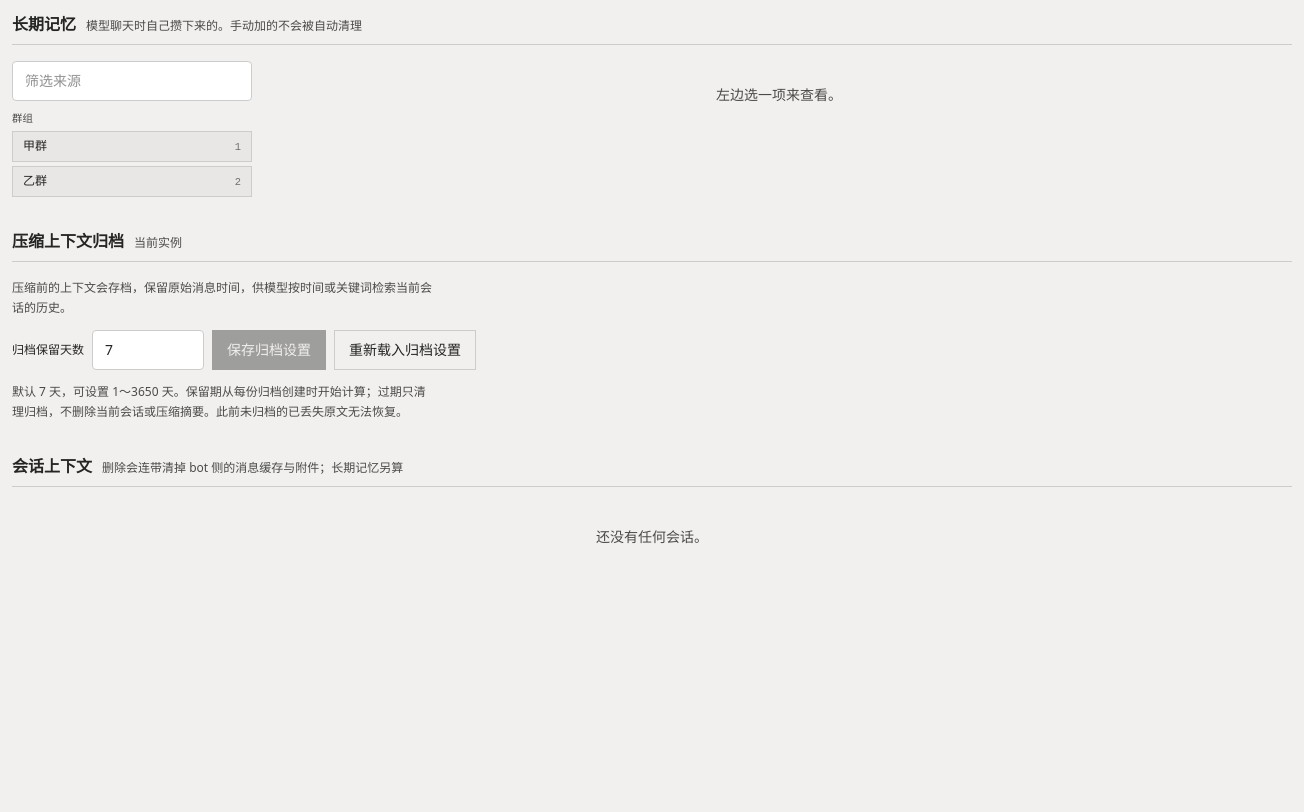
Test: 记忆页的那一句提示 › 条目那一路读失败，换一份读成功就不再报那句
Click the button "甲群 1" at (132, 147), box [12,131,252,162]
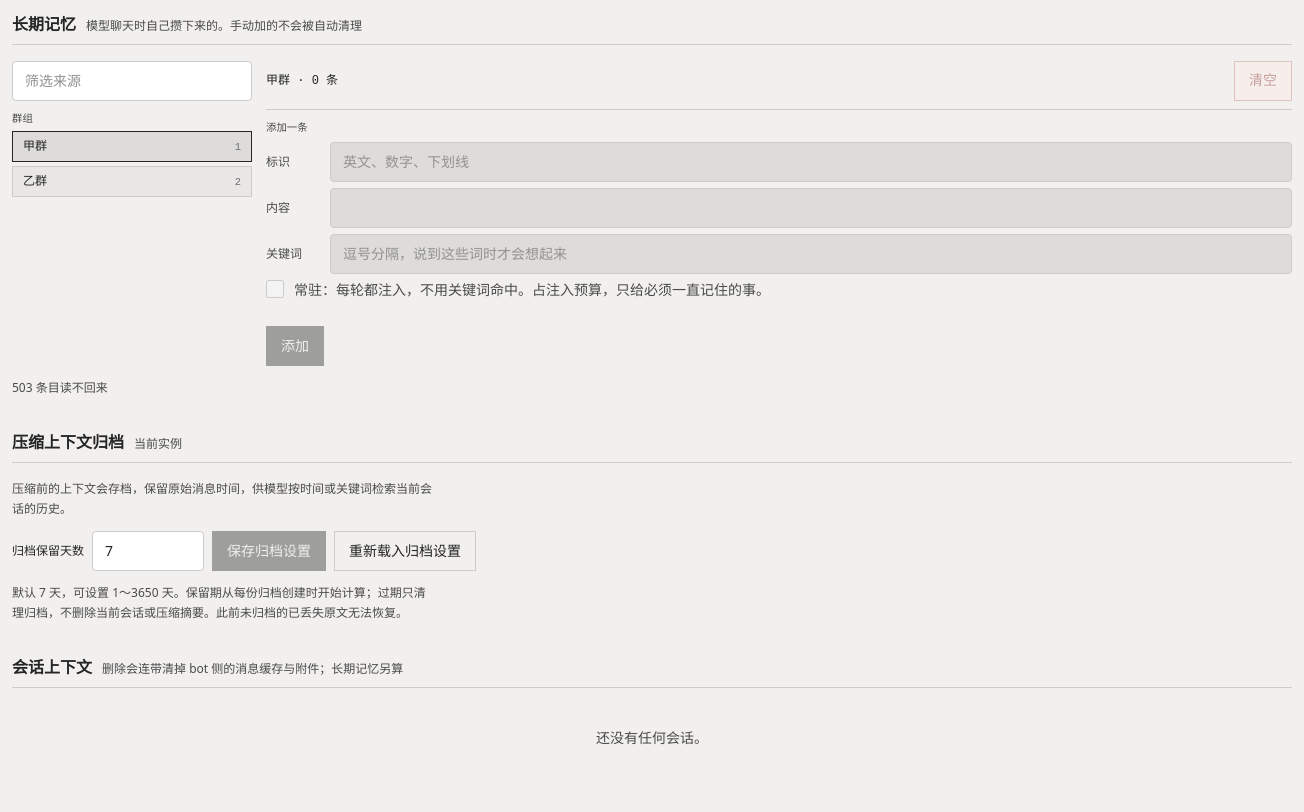
Result: the text "503 条目读不回来" is shown at [12,379,108,396]
Click the button "乙群 2" at (132, 181), box [12,166,252,197]
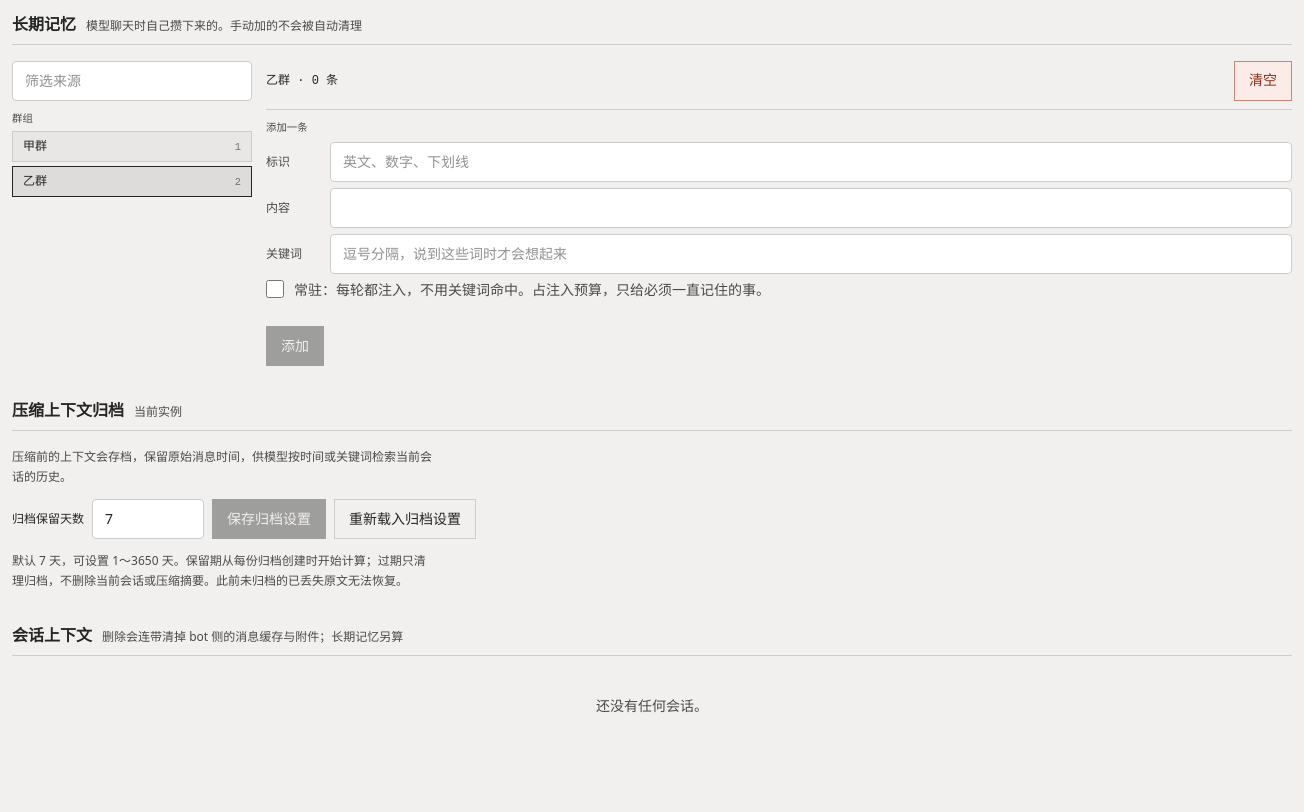
Result: the text "503 条目读不回来" is gone
